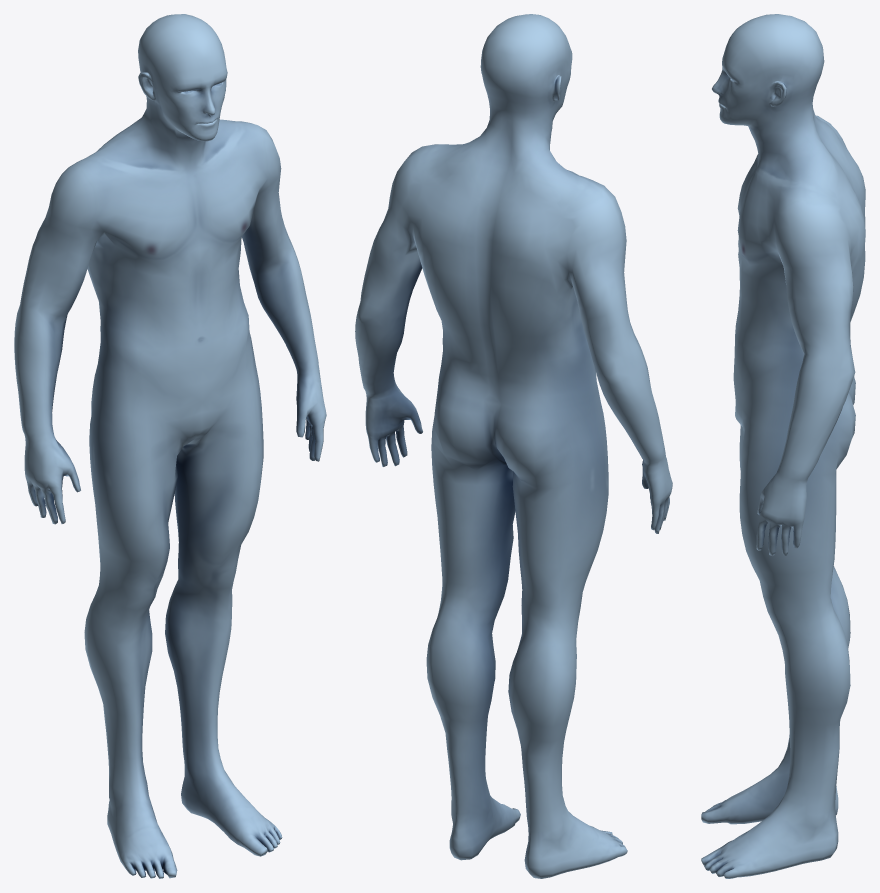
Rendered from normal.obj.
The picture shows the model from 3 angles, left to right: view 1: azimuth 30°, elevation 25°; view 2: azimuth 150°, elevation 25°; view 3: azimuth 270°, elevation 25°; orthographic projection.
Visible parts, largest first — view 1: UV_LP.002; view 2: UV_LP.002; view 3: UV_LP.002.
Part boxes in pixels (bbox=[...]): UV_LP.002: bbox=[14, 14, 326, 878]; UV_LP.002: bbox=[355, 14, 672, 878]; UV_LP.002: bbox=[701, 14, 865, 878].
Bounding box in the file's own units: 26.54 × 71.56 × 12.91.
